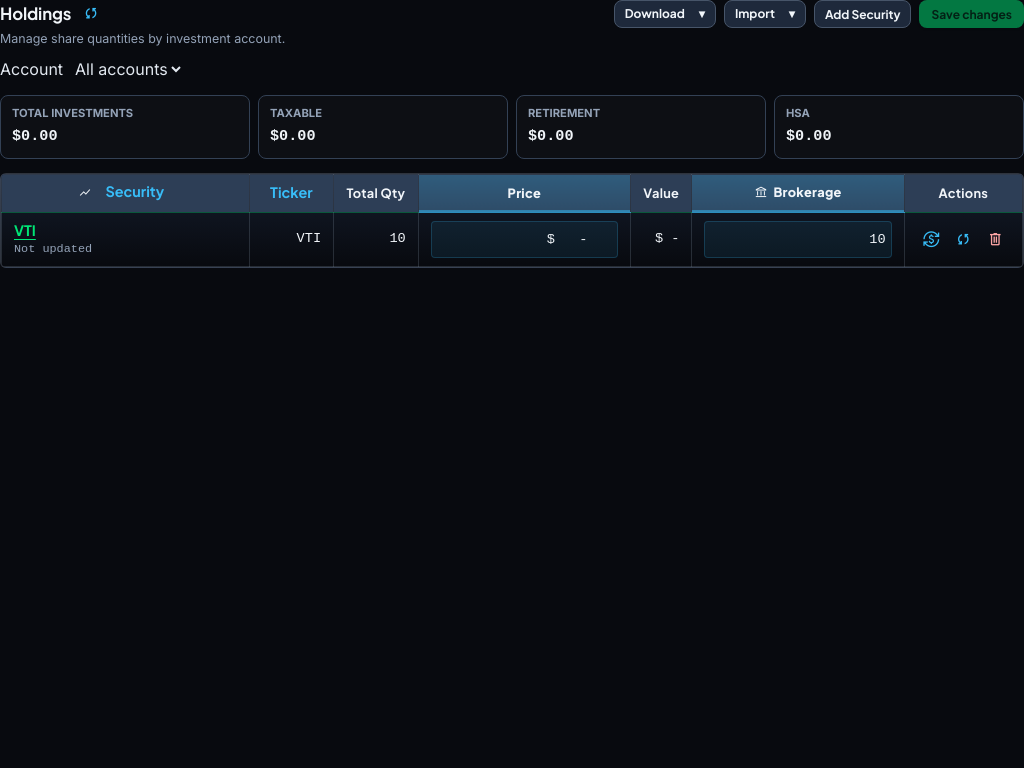
HoldingsPage dividend management › waits for the holding refresh to finish before allowing payment removal in details
Click the button named "Update VTI dividends": (931, 240) [917,226,945,254]
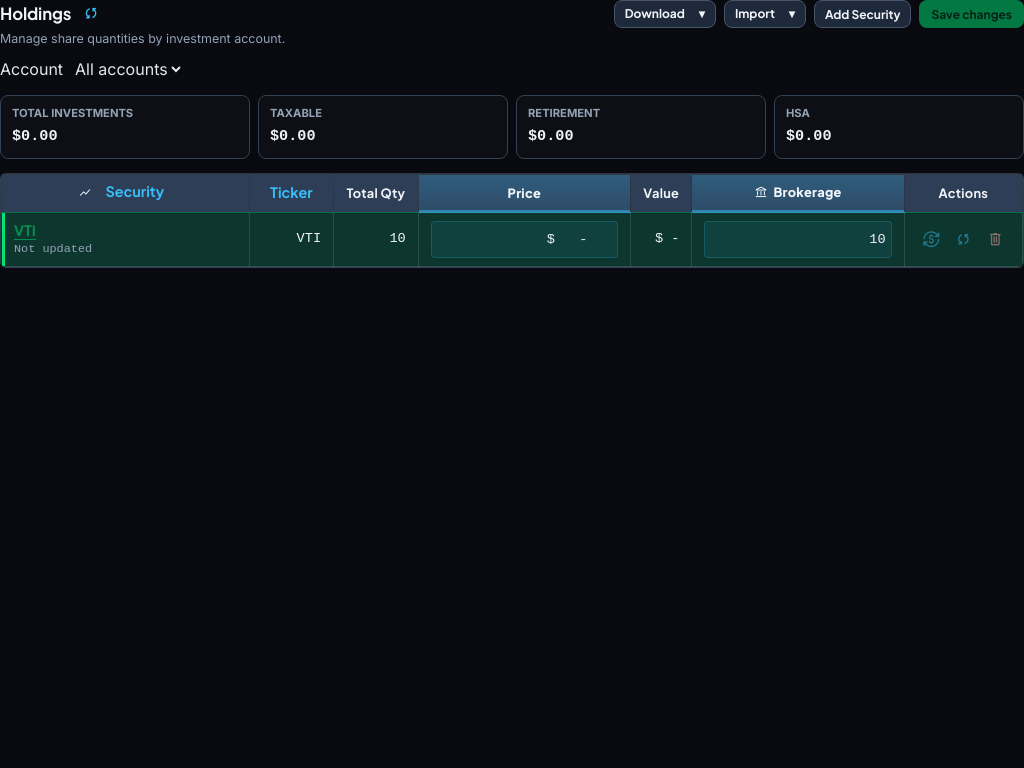
Expected: the button with aria-label "View VTI security details" is disabled
Click the button with aria-label "View VTI security details": (125, 230) [14,221,237,239]
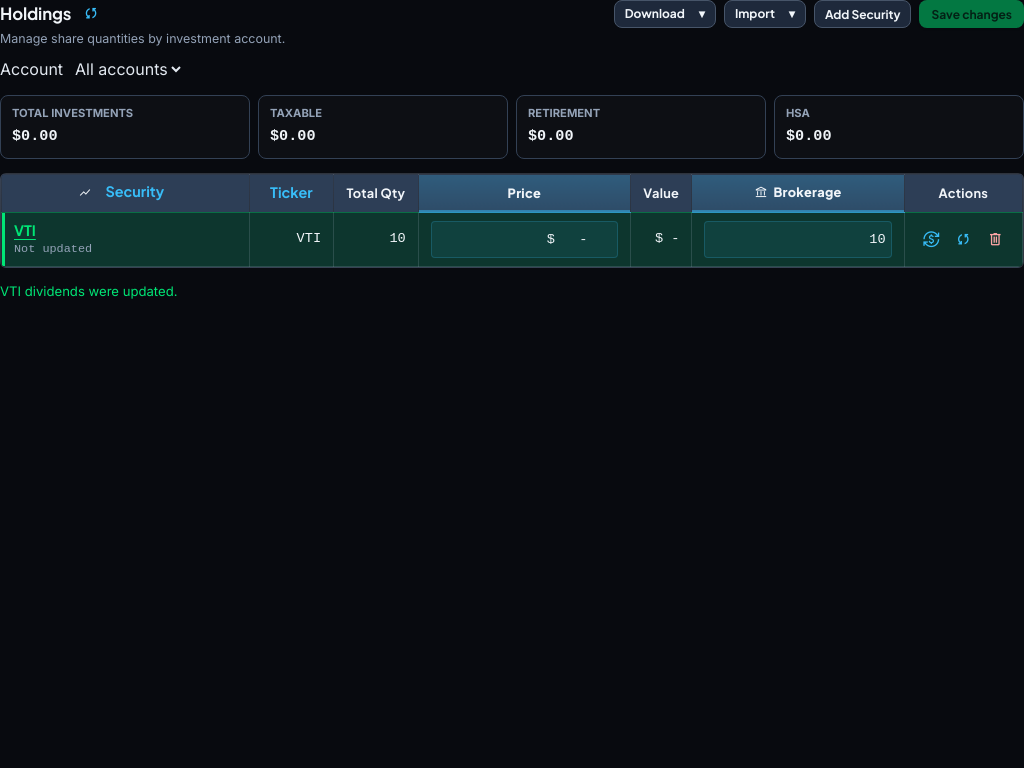
Expected: the button with aria-label "View VTI security details" is enabled
Click the button with aria-label "View VTI security details": (125, 230) [14,221,237,239]
(page scrolled)
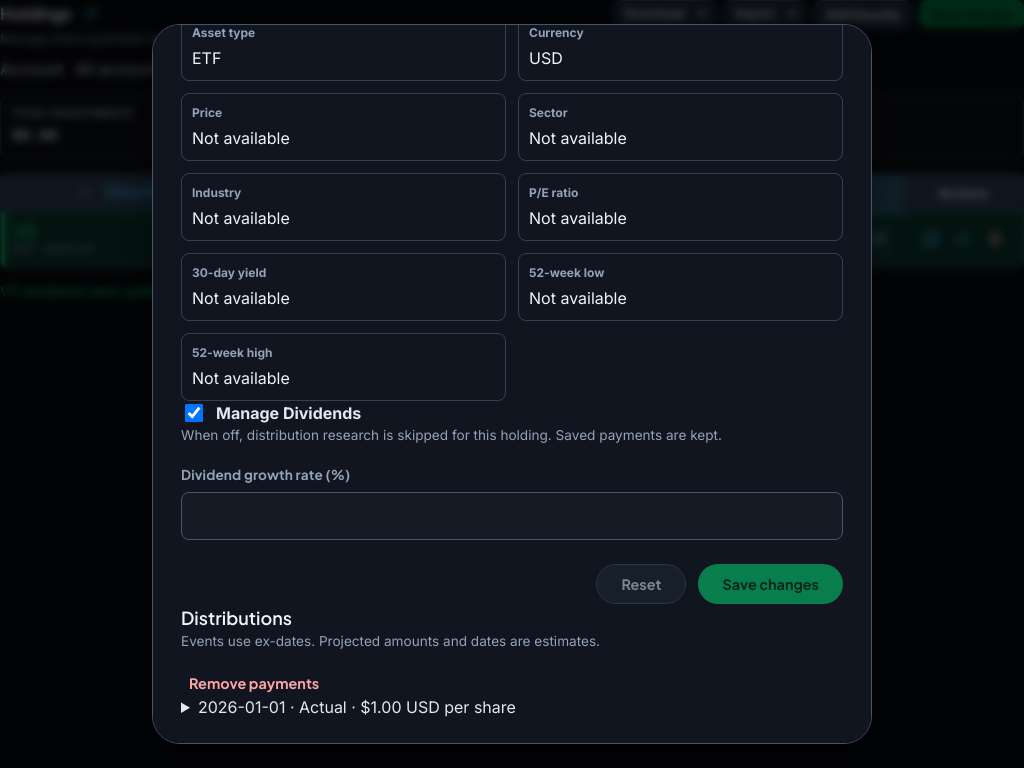
Expected: the button "Remove payments" is enabled, [181,674,327,692]
